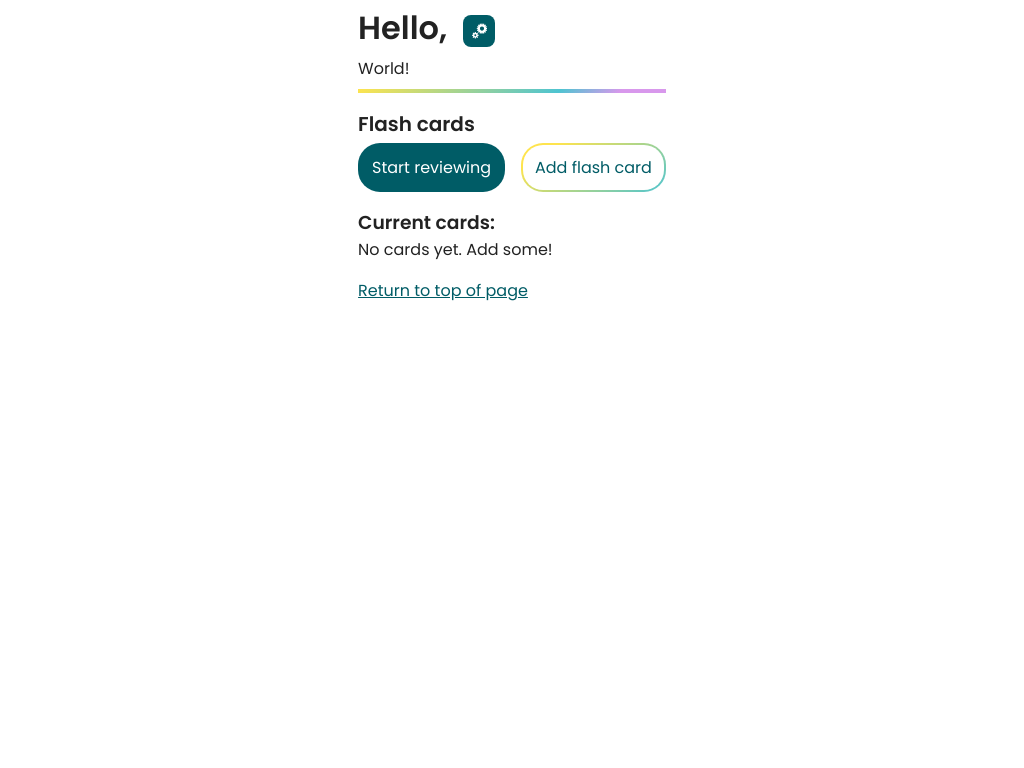
Scenario: CardSetOverview › Should open a modal if the user clicks the delete option
The width and height of the screenshot is (1024, 768).
Expected: the heading "Hello," is shown, [358,4,447,52]
Click the button named "options".
click(479, 31)  # box [463,15,495,47]
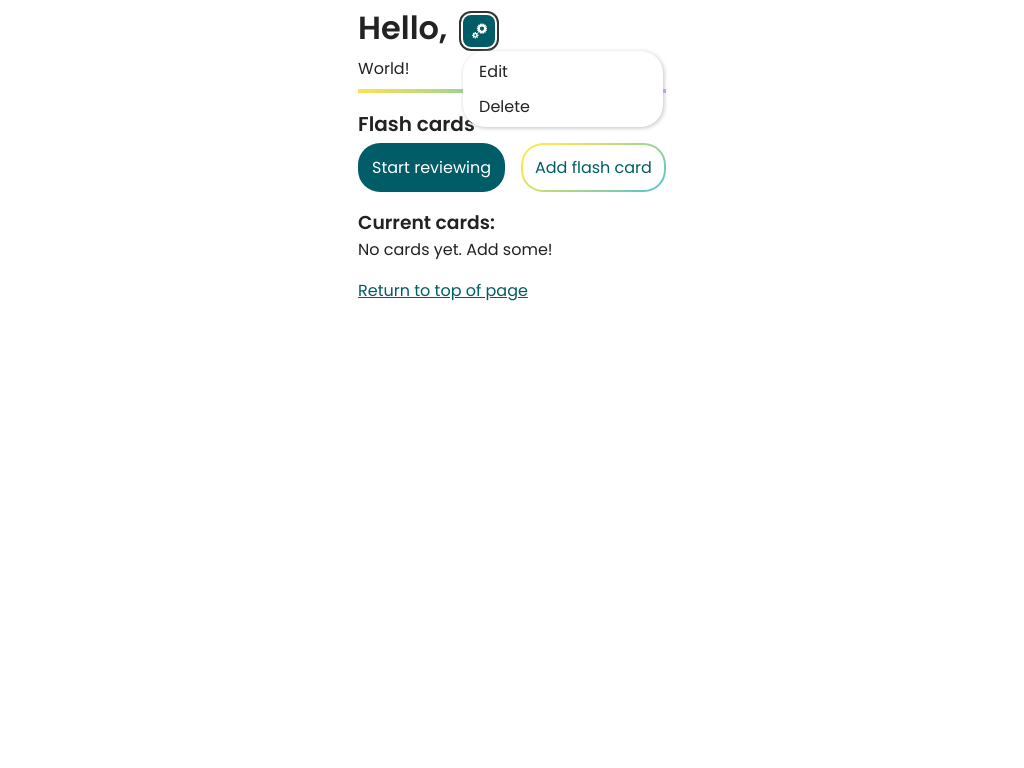
Click the menu item "Delete".
click(504, 106)  # box [479,95,530,118]
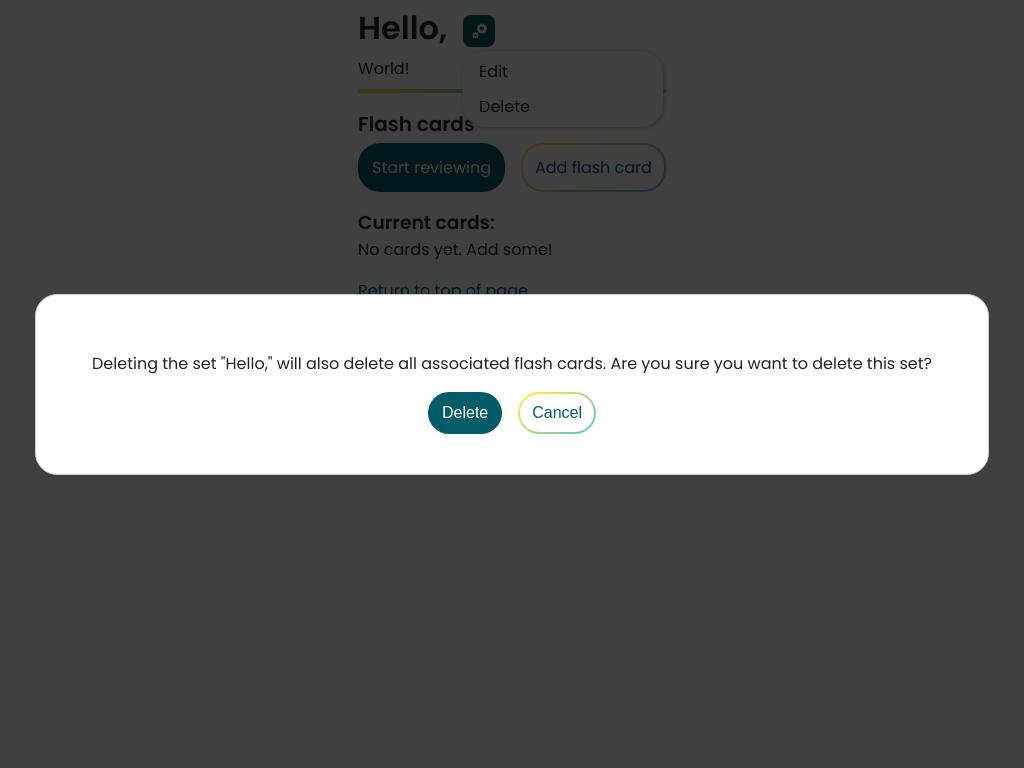
Expected: the dialog is shown, [35,294,989,474]
Click the button "Cancel".
click(557, 412)  # box [518,392,596,434]
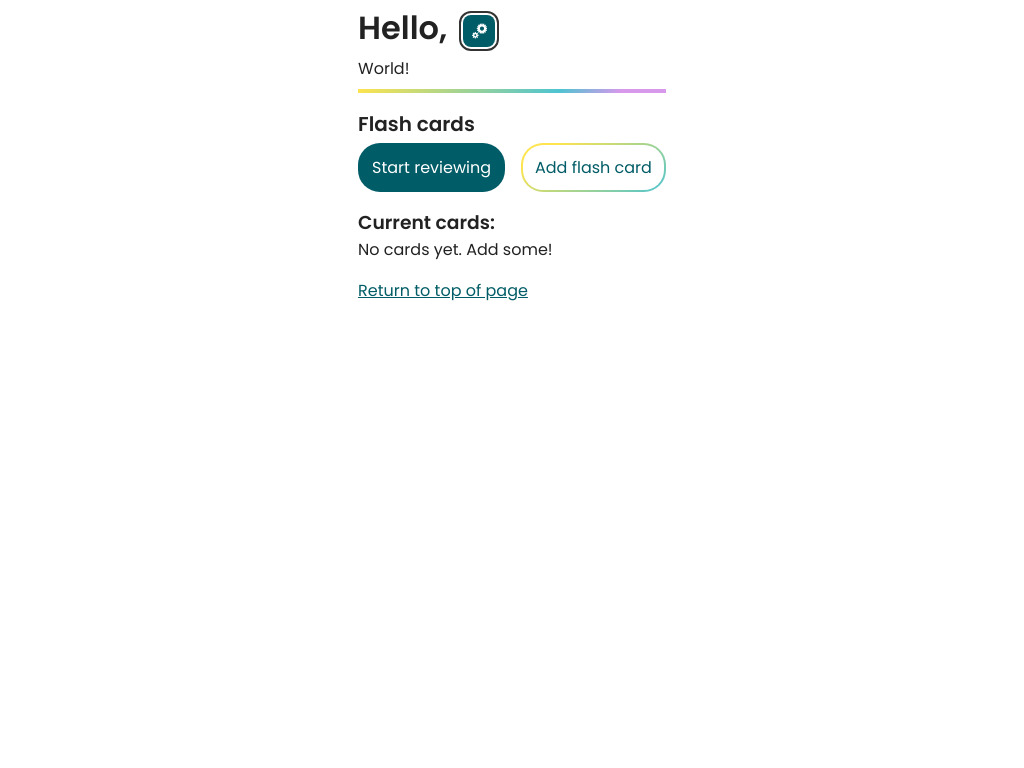
Expected: the dialog is gone
